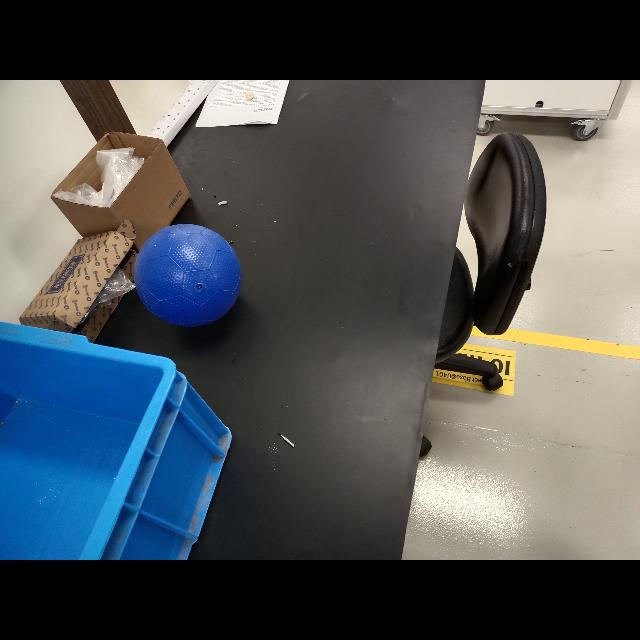B: (133, 224, 241, 326)
